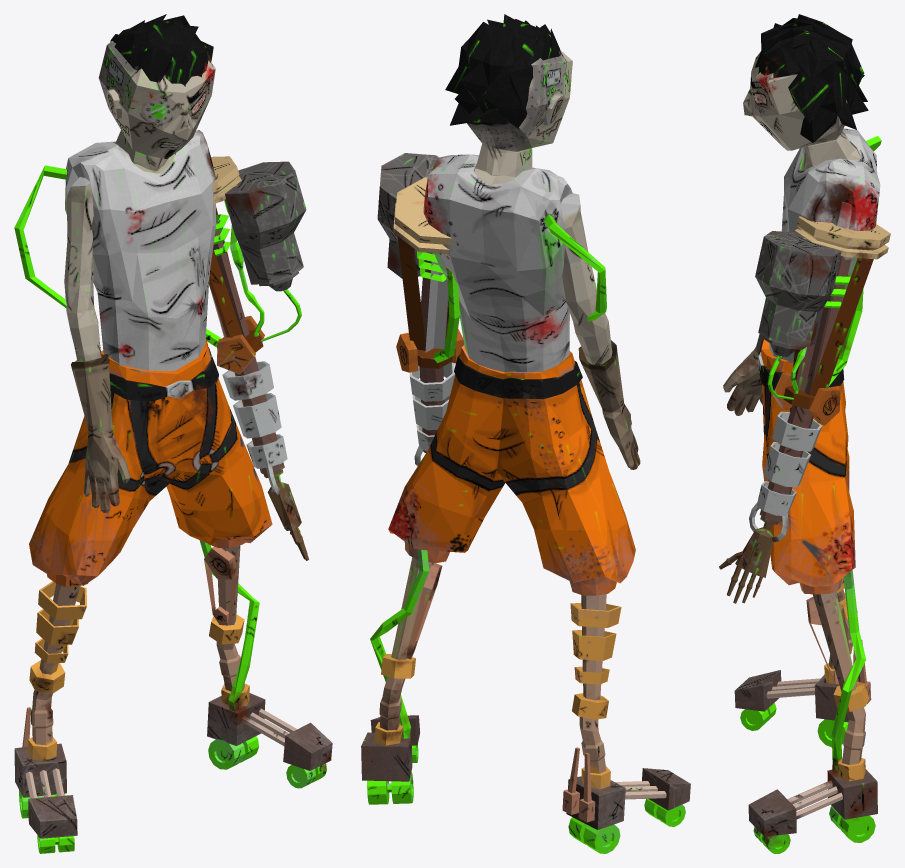
Rendered from CyborgFINALAnimation_000051.obj.
3 views of the same model, side by side, from view 1: azimuth 30°, elevation 25°; view 2: azimuth 150°, elevation 25°; view 3: azimuth 270°, elevation 25° (orthographic). The views are drawn at different scales.
Visible parts, largest first — view 1: CyborgMesh_Cube.002; view 2: CyborgMesh_Cube.002; view 3: CyborgMesh_Cube.002.
Part boxes in pixels (<box>): CyborgMesh_Cube.002: <box>14,14,332,853</box>; CyborgMesh_Cube.002: <box>361,14,690,853</box>; CyborgMesh_Cube.002: <box>719,14,890,853</box>.
Bounding box in the file's own units: 3.85 × 9.65 × 1.96.
